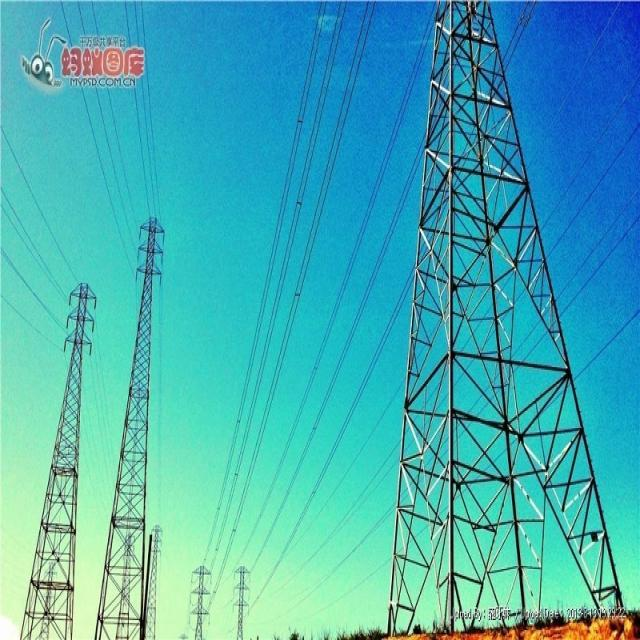non-critical vegetation: (398, 32, 612, 614), (96, 210, 170, 634), (22, 267, 102, 623), (185, 550, 217, 633)
